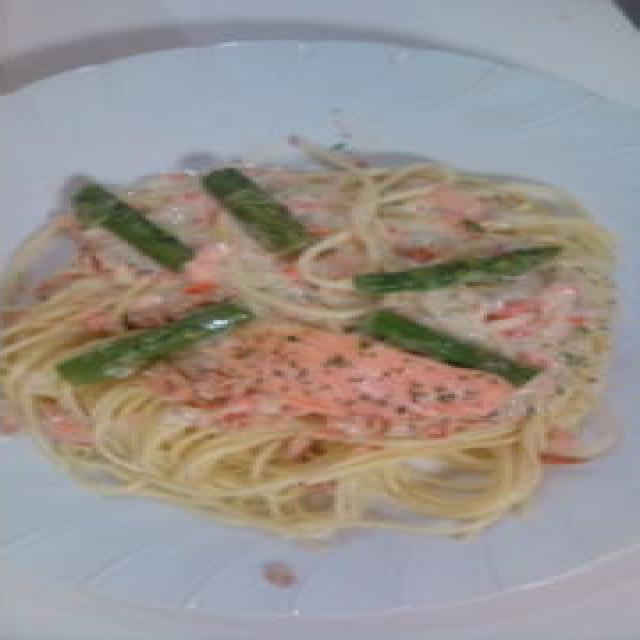Pasta: (0, 160, 625, 520)
